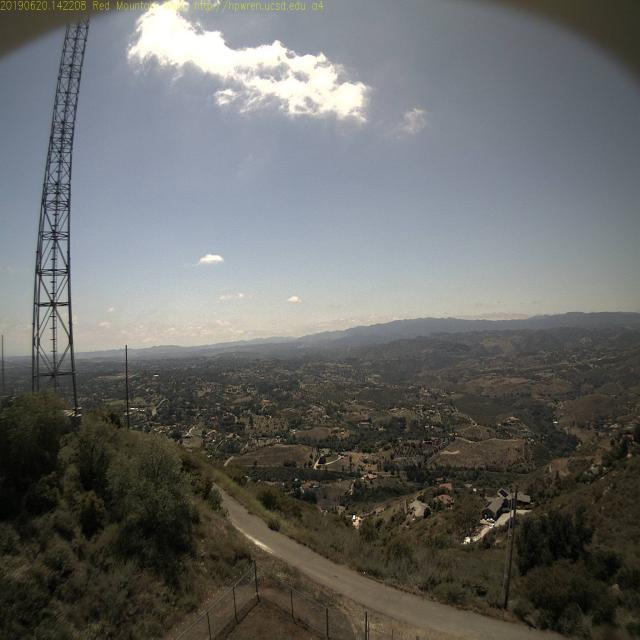smoke: (292, 337, 308, 353)
